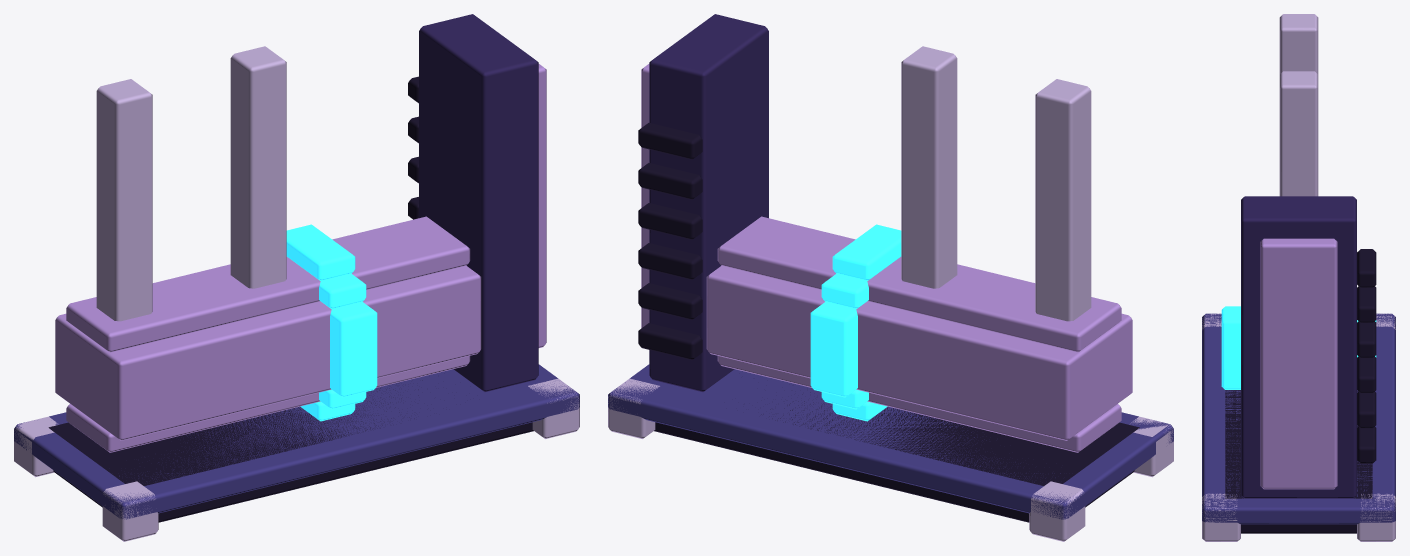
Rendered from coolant-pump.lg.glb.
3 renders of one model, left to right at view 1: azimuth 30°, elevation 25°; view 2: azimuth 150°, elevation 25°; view 3: azimuth 270°, elevation 25°, orthographic. The views are drawn at different scales.
Parts seen in each view (by area): view 1: coolant-pump.lg; view 2: coolant-pump.lg; view 3: coolant-pump.lg.
Boxes of the visible parts, x1,y1,x2,y2 form: coolant-pump.lg: [14, 14, 579, 541]; coolant-pump.lg: [608, 14, 1173, 541]; coolant-pump.lg: [1202, 14, 1395, 541].
Bounding box in the file's own units: 1.5 × 1.25 × 0.625.
